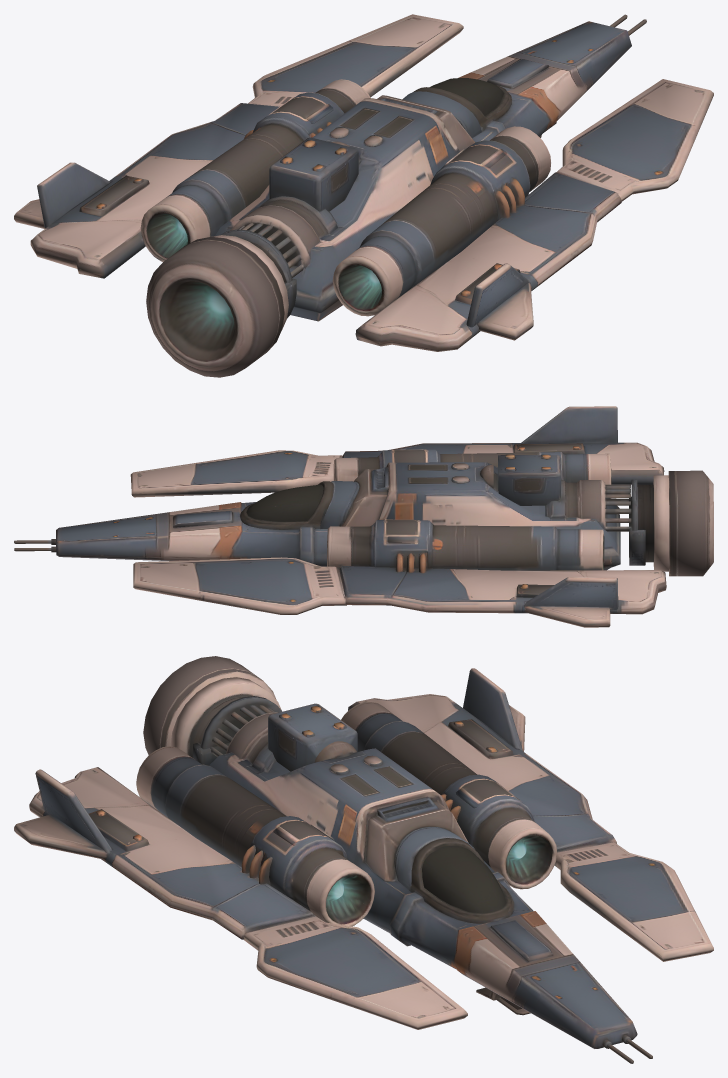
The model's file is first_upgrade_blue.glb.
3 views of the same model, one above another, from view 1: azimuth 30°, elevation 25°; view 2: azimuth 150°, elevation 25°; view 3: azimuth 270°, elevation 25° (orthographic). The views are drawn at different scales.
Visible parts, largest first — view 1: tripo_node_b738047e-2808-4ae9-930c-bb318769cf8f; view 2: tripo_node_b738047e-2808-4ae9-930c-bb318769cf8f; view 3: tripo_node_b738047e-2808-4ae9-930c-bb318769cf8f.
Part boxes in pixels (bbox=[...]): tripo_node_b738047e-2808-4ae9-930c-bb318769cf8f: bbox=[14, 14, 713, 377]; tripo_node_b738047e-2808-4ae9-930c-bb318769cf8f: bbox=[14, 406, 713, 627]; tripo_node_b738047e-2808-4ae9-930c-bb318769cf8f: bbox=[14, 656, 713, 1063].
Bounding box in the file's own units: 0.9243 × 0.1733 × 0.7923.
Materials: 1 (1 with a texture image).
